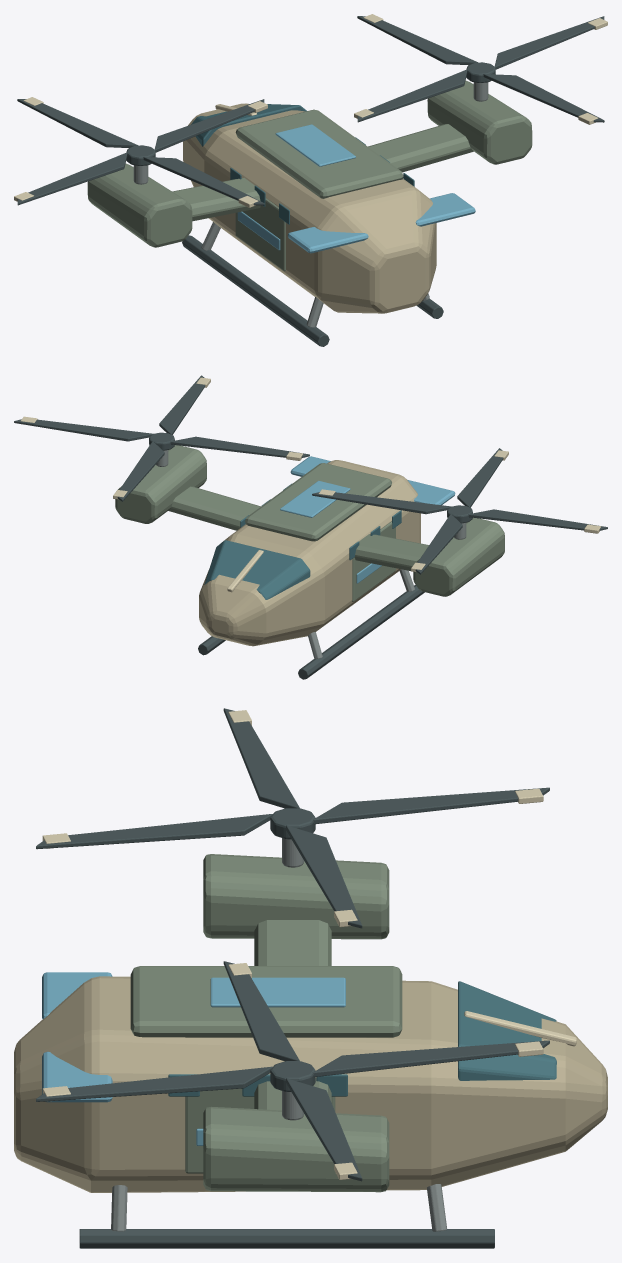
File: gatherer.glb
3 renders of one model, top to bottom at view 1: azimuth 30°, elevation 25°; view 2: azimuth 150°, elevation 25°; view 3: azimuth 270°, elevation 25°, orthographic. The views are drawn at different scales.
Visible parts, largest first — view 1: body, rotor_right, rotor_left; view 2: body, rotor_right, rotor_left; view 3: body, rotor_right, rotor_left.
Boxes of the visible parts, x1=… form: body: x1=87, y1=62, x2=532, y2=346; rotor_right: x1=354, y1=14, x2=607, y2=124; rotor_left: x1=14, y1=97, x2=267, y2=207; body: x1=115, y1=432, x2=504, y2=679; rotor_right: x1=14, y1=375, x2=309, y2=501; rotor_left: x1=312, y1=448, x2=607, y2=574; body: x1=14, y1=808, x2=607, y2=1248; rotor_right: x1=36, y1=961, x2=549, y2=1181; rotor_left: x1=36, y1=708, x2=549, y2=928.
Bounding box in the file's own units: 10.52 × 2.75 × 5.62.
